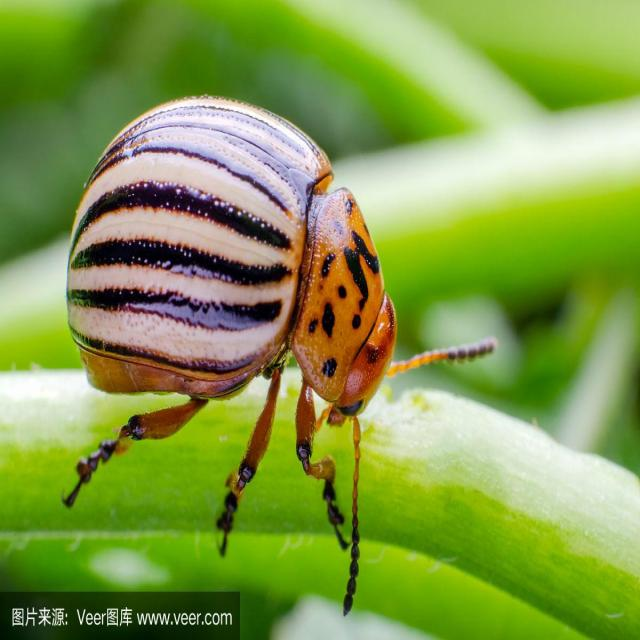ShuCaiHuaBanChong-Grown-: (44, 68, 439, 540)
